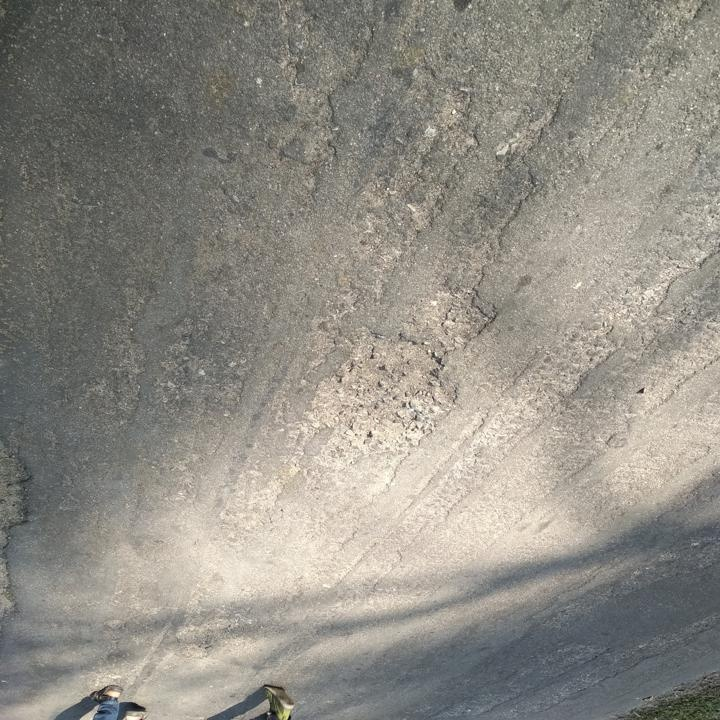pothole: (300, 335, 455, 450), (423, 289, 495, 346)
